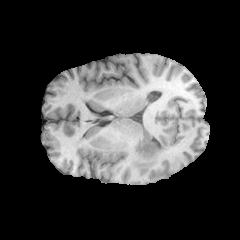glioma: (129, 140, 170, 174)
